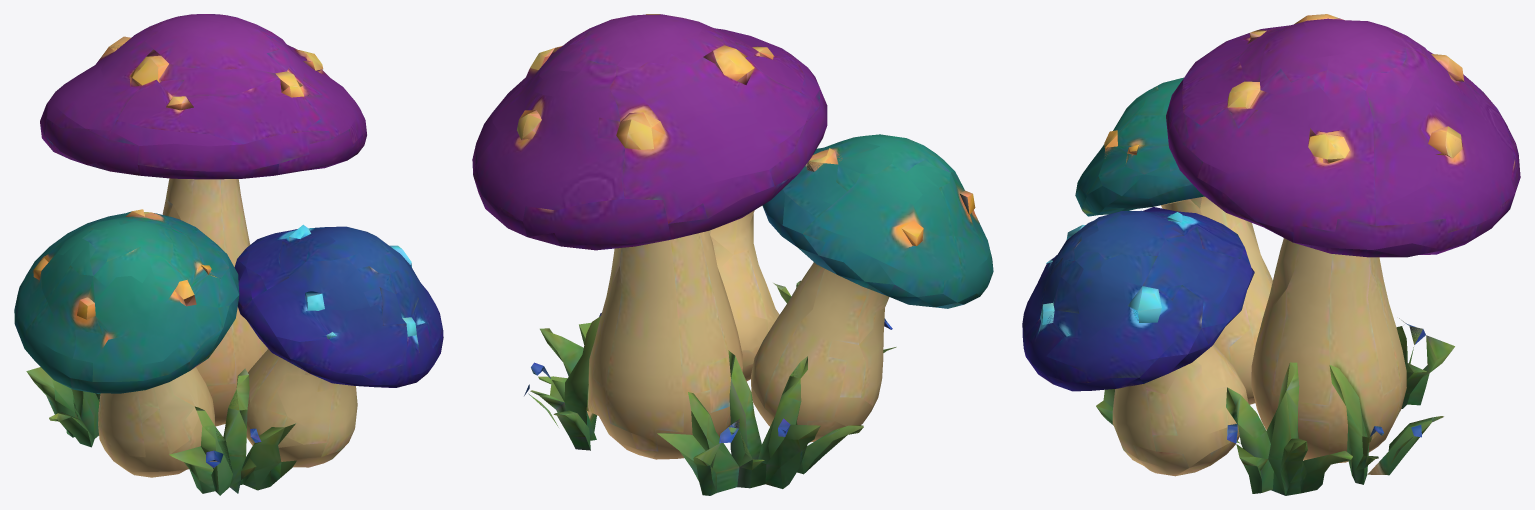
The model's file is bosque_hongos1.glb.
3 views of the same model, side by side, from view 1: azimuth 30°, elevation 25°; view 2: azimuth 150°, elevation 25°; view 3: azimuth 270°, elevation 25° (orthographic). The views are drawn at different scales.
Parts seen in each view (by area): view 1: tripo_node_c91c0b51-29f1-48b1-bc81-c20e51e93ceb; view 2: tripo_node_c91c0b51-29f1-48b1-bc81-c20e51e93ceb; view 3: tripo_node_c91c0b51-29f1-48b1-bc81-c20e51e93ceb.
Part boxes in pixels (<box>): tripo_node_c91c0b51-29f1-48b1-bc81-c20e51e93ceb: <box>14,14,443,495</box>; tripo_node_c91c0b51-29f1-48b1-bc81-c20e51e93ceb: <box>472,14,993,495</box>; tripo_node_c91c0b51-29f1-48b1-bc81-c20e51e93ceb: <box>1022,14,1520,495</box>.
Size of the model in its own units: 0.9516 by 0.9448 by 0.9954.
Materials: 1 (1 with a texture image).
